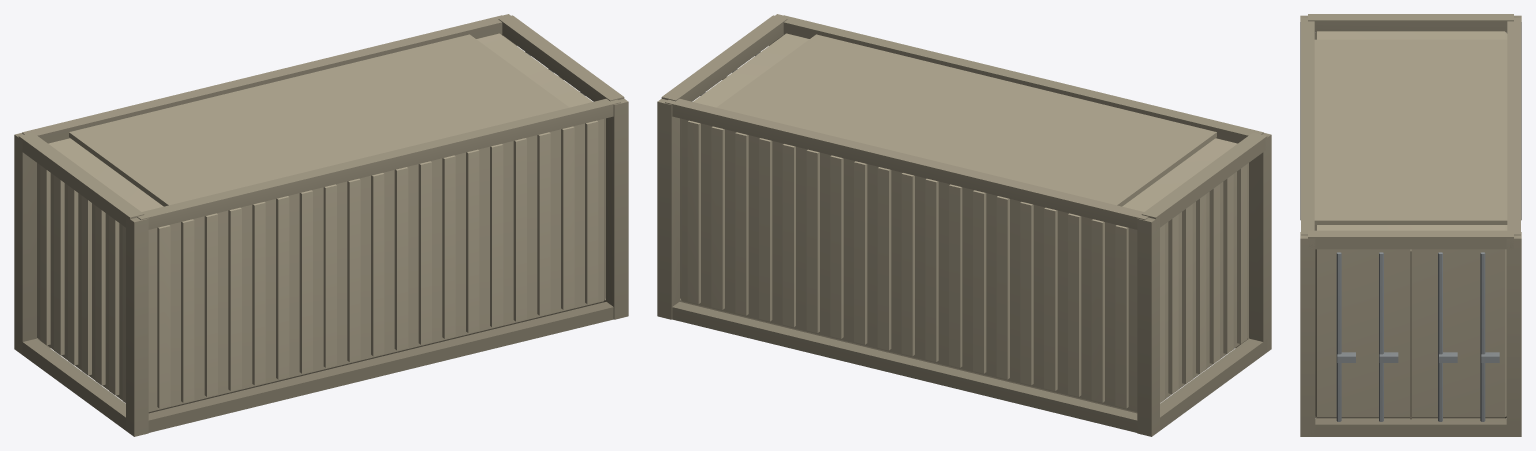
The model's file is mil_container_sand.glb.
3 renders of one model, left to right at view 1: azimuth 30°, elevation 25°; view 2: azimuth 150°, elevation 25°; view 3: azimuth 270°, elevation 25°, orthographic. The views are drawn at different scales.
Parts seen in each view (by area): view 1: mil_container_sand; view 2: mil_container_sand; view 3: mil_container_sand.
Boxes of the visible parts, x1,y1,x2,y2 form: mil_container_sand: (14,14,628,436); mil_container_sand: (657,14,1271,436); mil_container_sand: (1300,14,1521,436).
Bounding box in the file's own units: 6.31 × 2.61 × 2.62.
